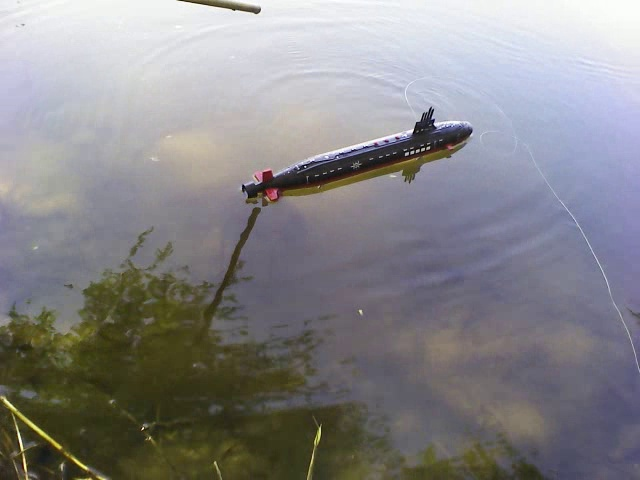submarine: (241, 105, 474, 205)
